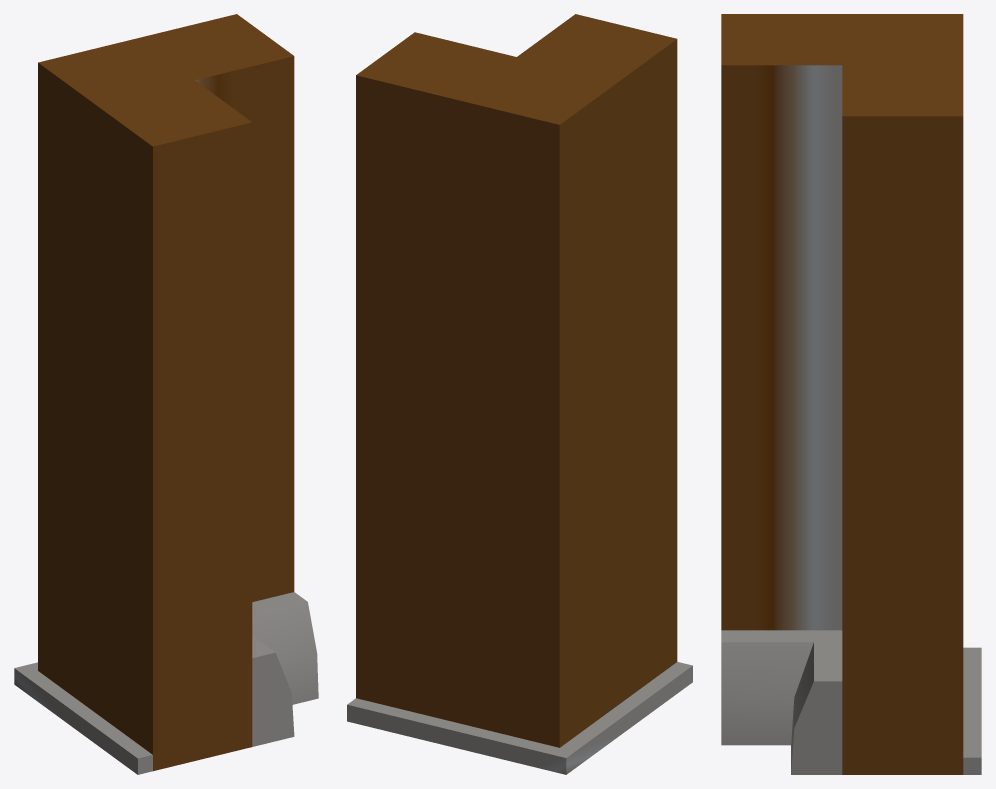
Rendered from SM_Wall_Corner_Inner_NoTop.fbx.
3 renders of one model, left to right at view 1: azimuth 30°, elevation 25°; view 2: azimuth 150°, elevation 25°; view 3: azimuth 270°, elevation 25°, orthographic. The views are drawn at different scales.
Parts seen in each view (by area): view 1: SM_Wall_Corner_Inner_NoTop; view 2: SM_Wall_Corner_Inner_NoTop; view 3: SM_Wall_Corner_Inner_NoTop.
Part boxes in pixels (<box>): SM_Wall_Corner_Inner_NoTop: <box>14,14,318,774</box>; SM_Wall_Corner_Inner_NoTop: <box>347,14,692,774</box>; SM_Wall_Corner_Inner_NoTop: <box>721,14,981,774</box>.
Bounding box in the file's own units: 108 × 300 × 108.
